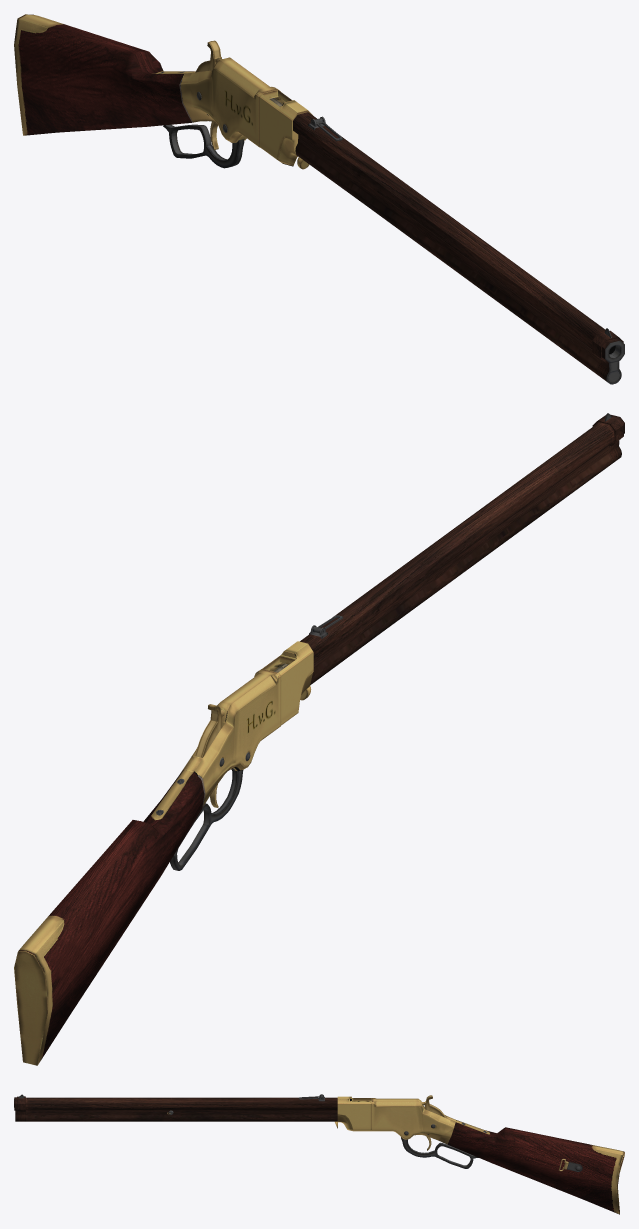
Rendered from gun_HvG.fbx.
3 views of the same model, one above another, from view 1: azimuth 30°, elevation 25°; view 2: azimuth 150°, elevation 25°; view 3: azimuth 270°, elevation 25° (orthographic). The views are drawn at different scales.
Parts seen in each view (by area): view 1: gun; view 2: gun; view 3: gun.
Part boxes in pixels (box(x1,y1,x2,y2)): gun: box(14, 14, 624, 384); gun: box(14, 413, 624, 1065); gun: box(14, 1094, 624, 1214).
Size of the model in its own units: 16.25 by 91.82 by 431.
1 material, 1 textured.
